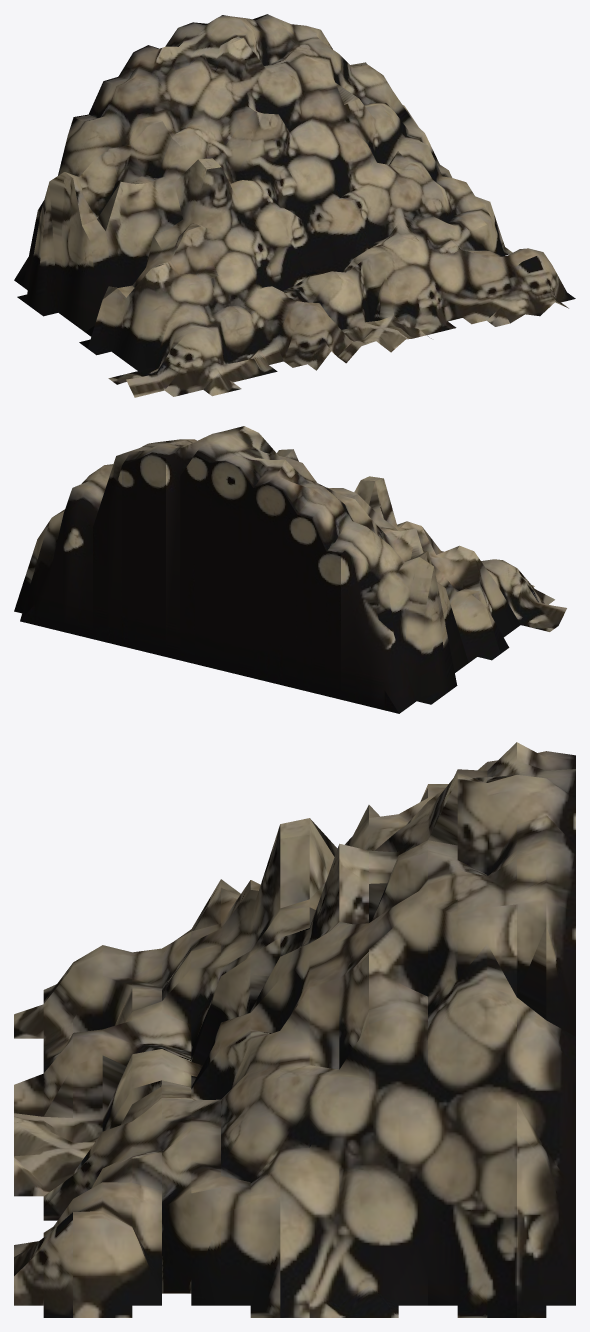
The model's file is catacomb_skullpile.glb.
The picture shows the model from 3 angles, top to bottom: view 1: azimuth 30°, elevation 25°; view 2: azimuth 150°, elevation 25°; view 3: azimuth 270°, elevation 25°; orthographic projection. The views are drawn at different scales.
Visible parts, largest first — view 1: catacomb_skullpile; view 2: catacomb_skullpile; view 3: catacomb_skullpile.
Part boxes in pixels (x1,y1,x2,y2): catacomb_skullpile: (14, 14, 575, 397); catacomb_skullpile: (14, 426, 566, 713); catacomb_skullpile: (14, 742, 575, 1317).
Bounding box in the file's own units: 1.97 × 0.9744 × 1.33.
Materials: 1 (1 with a texture image).
